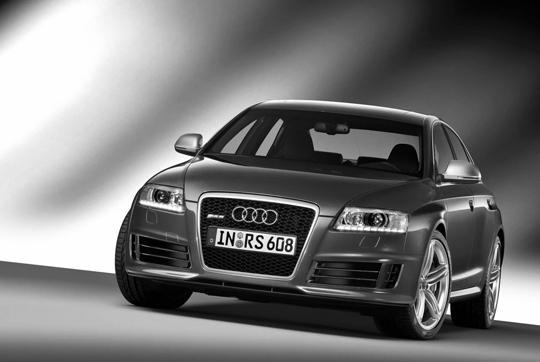car: (110, 94, 510, 343)
